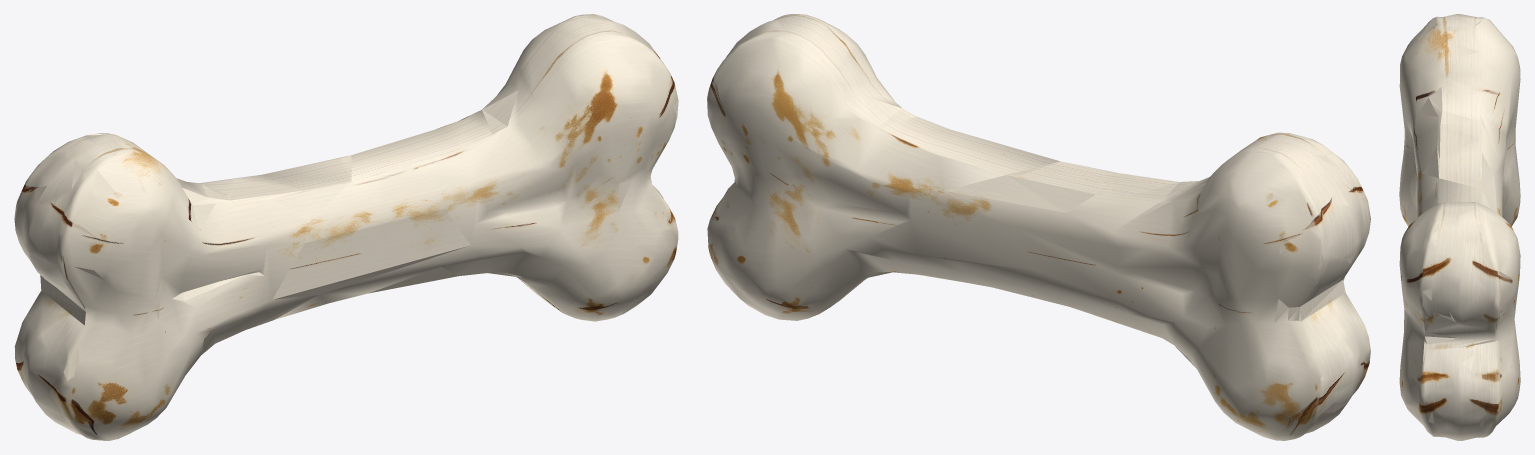
3 renders of one model, left to right at view 1: azimuth 30°, elevation 25°; view 2: azimuth 150°, elevation 25°; view 3: azimuth 270°, elevation 25°, orthographic. The views are drawn at different scales.
Parts seen in each view (by area): view 1: Mesh_0; view 2: Mesh_0; view 3: Mesh_0.
Boxes of the visible parts, <box> form: Mesh_0: <box>14,14,678,440</box>; Mesh_0: <box>707,14,1370,440</box>; Mesh_0: <box>1399,14,1520,440</box>.
Size of the model in its own units: 190 by 82.4 by 39.83.
Materials: 1 (1 with a texture image).
